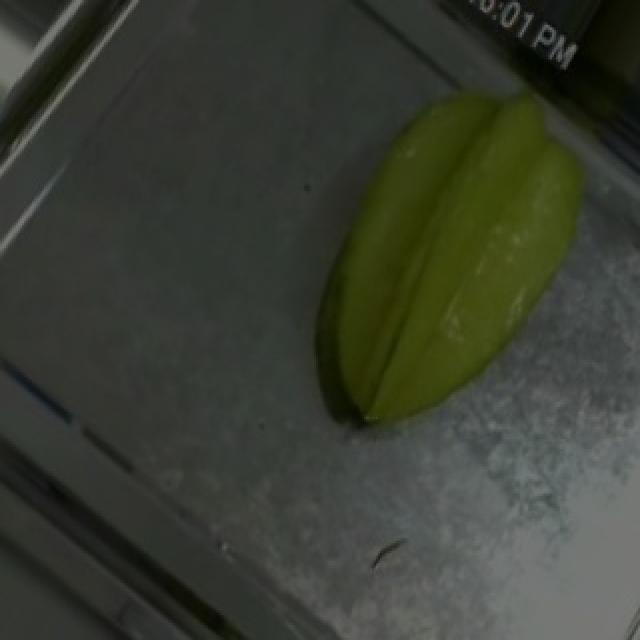fruit: (312, 35, 638, 407)
